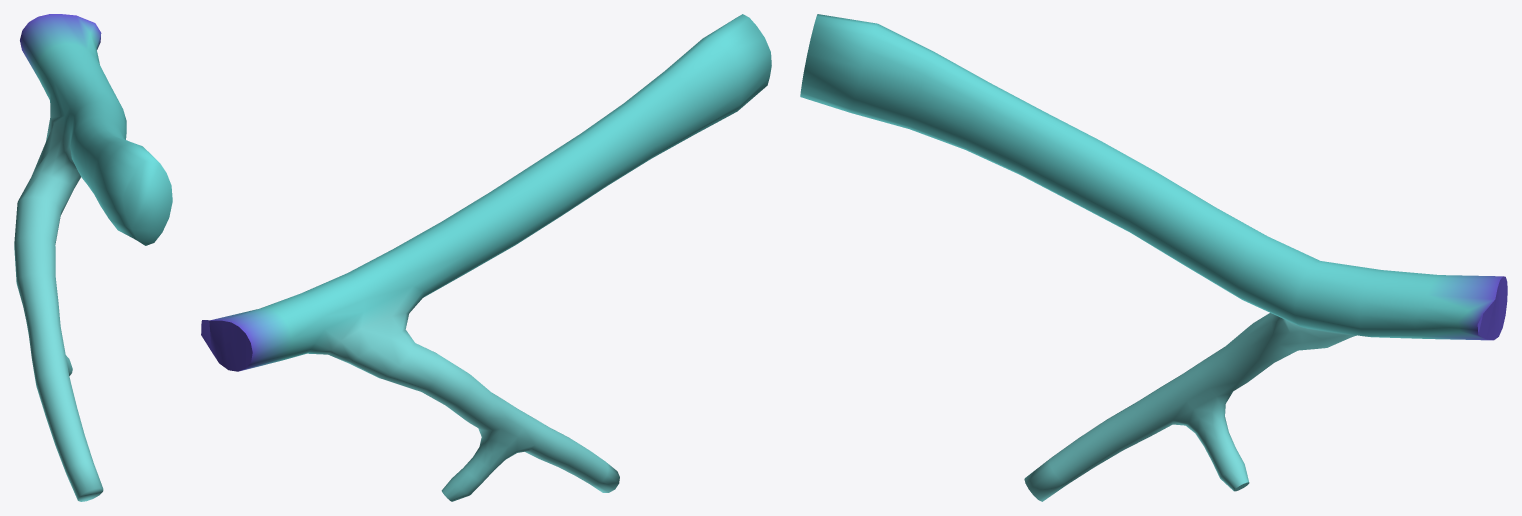
Rendered from Iliac_Vein_Right.FBX.
The picture shows the model from 3 angles, left to right: view 1: azimuth 30°, elevation 25°; view 2: azimuth 150°, elevation 25°; view 3: azimuth 270°, elevation 25°; orthographic projection. The views are drawn at different scales.
Visible parts, largest first — view 1: Iliac_Vein_Right; view 2: Iliac_Vein_Right; view 3: Iliac_Vein_Right.
Part boxes in pixels (left/top/right/bottom): Iliac_Vein_Right: left=14, top=14, right=172, bottom=501; Iliac_Vein_Right: left=201, top=14, right=771, bottom=501; Iliac_Vein_Right: left=800, top=14, right=1507, bottom=501.
Size of the model in its own units: 70.73 by 102 by 141.
